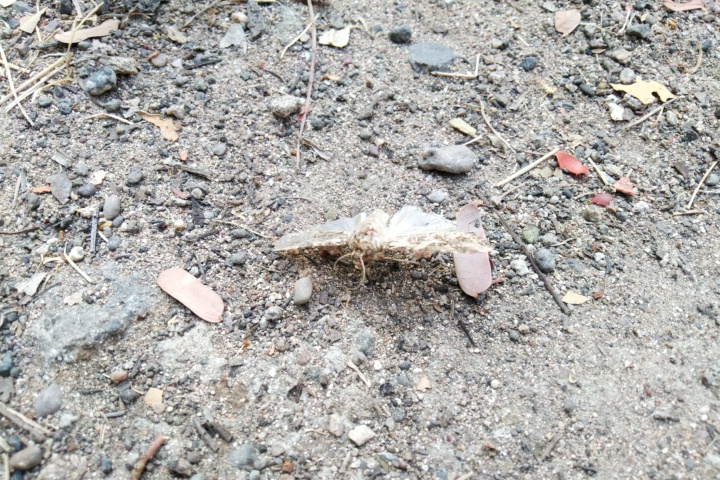INS-B: (273, 202, 499, 264)
